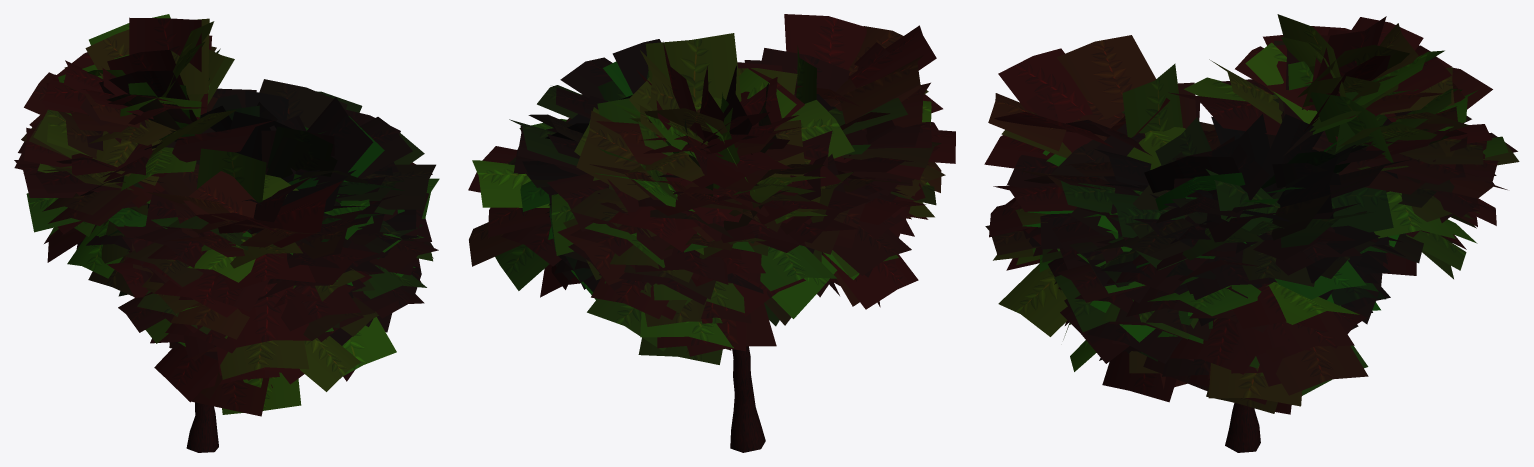
The model's file is veg_neem1_far.glb.
3 renders of one model, left to right at view 1: azimuth 30°, elevation 25°; view 2: azimuth 150°, elevation 25°; view 3: azimuth 270°, elevation 25°, orthographic. The views are drawn at different scales.
Visible parts, largest first — view 1: neem_1; view 2: neem_1; view 3: neem_1.
Boxes of the visible parts, x1,y1,x2,y2 form: neem_1: (14, 14, 439, 452); neem_1: (468, 14, 955, 452); neem_1: (984, 14, 1519, 452).
Size of the model in its own units: 10.23 by 10.39 by 11.7.
2 materials, 2 textured.
